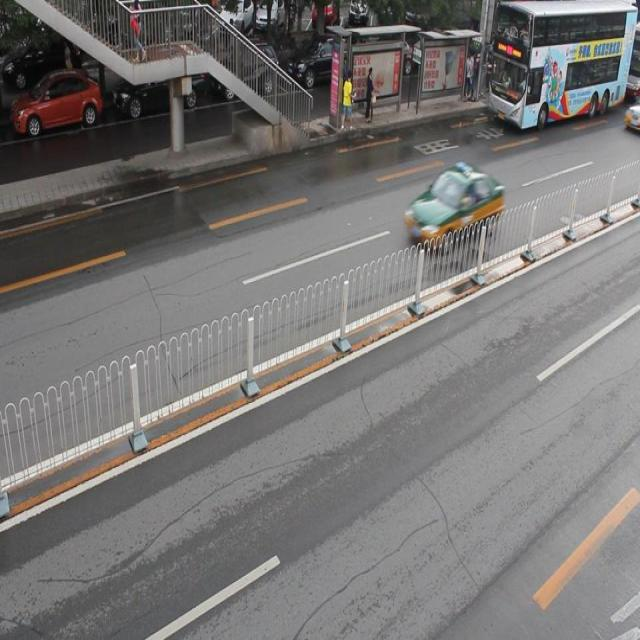car: (406, 163, 503, 251), (13, 71, 102, 138), (115, 54, 204, 118), (217, 40, 279, 104), (287, 36, 356, 90)
van: (488, 1, 640, 128)
